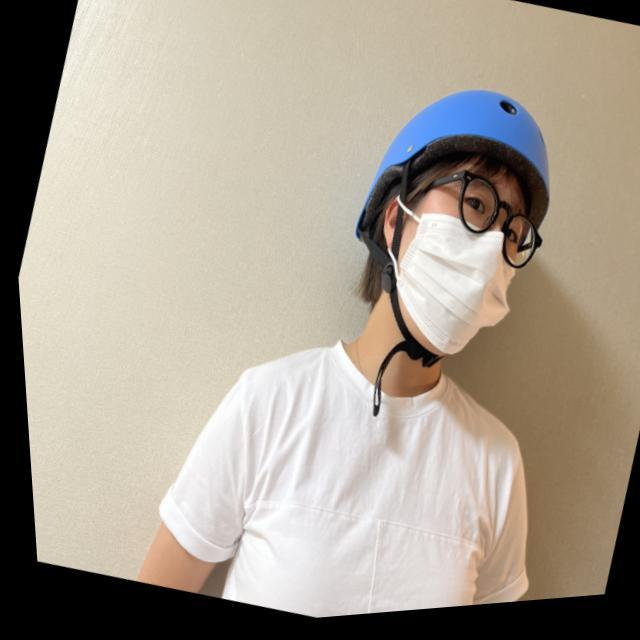Helmet: (349, 85, 554, 367)
